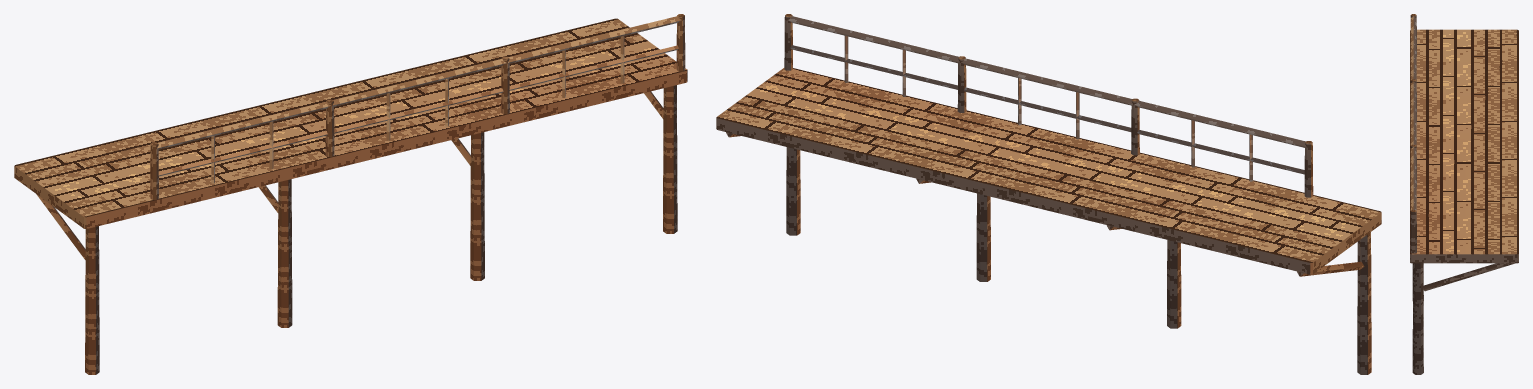
File: wtown.gallery__west_stair.glb
The picture shows the model from 3 angles, left to right: view 1: azimuth 30°, elevation 25°; view 2: azimuth 150°, elevation 25°; view 3: azimuth 270°, elevation 25°; orthographic projection. The views are drawn at different scales.
Visible parts, largest first — view 1: kit_deck, kit_railing, kit_posts, kit_braces; view 2: kit_deck, kit_railing, kit_posts, kit_braces; view 3: kit_deck, kit_railing, kit_posts, kit_braces.
Boxes of the visible parts, x1,y1,x2,y2 form: kit_deck: (14,18,687,228); kit_railing: (150,14,685,199); kit_posts: (85,85,677,374); kit_braces: (36,91,663,259); kit_deck: (716,68,1381,274); kit_railing: (784,14,1313,197); kit_posts: (786,147,1371,374); kit_braces: (726,132,1364,276); kit_deck: (1410,29,1518,263); kit_railing: (1410,14,1416,253); kit_posts: (1412,263,1423,374); kit_braces: (1423,263,1514,291).
Size of the model in its own units: 11.72 by 4.01 by 2.4.
4 materials, 4 textured.
